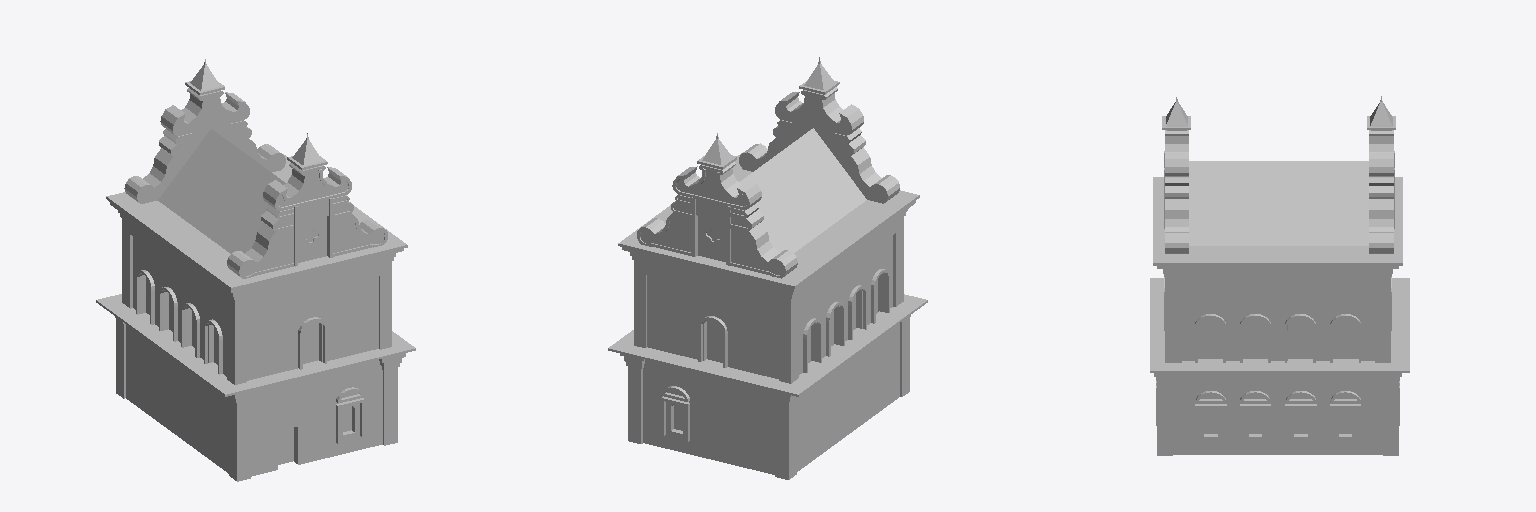
The model's file is Housie2.obj.
The picture shows the model from 3 angles: view 1: azimuth 30°, elevation 25°; view 2: azimuth 150°, elevation 25°; view 3: azimuth 270°, elevation 25°; orthographic projection.
Visible parts, largest first — view 1: UkrAcaWWing; view 2: UkrAcaWWing; view 3: UkrAcaWWing.
Boxes of the visible parts, x1,y1,x2,y2 form: UkrAcaWWing: [96, 59, 415, 481]; UkrAcaWWing: [608, 57, 927, 479]; UkrAcaWWing: [1150, 96, 1409, 455].
Size of the model in its own units: 4.9 by 7.91 by 5.76.